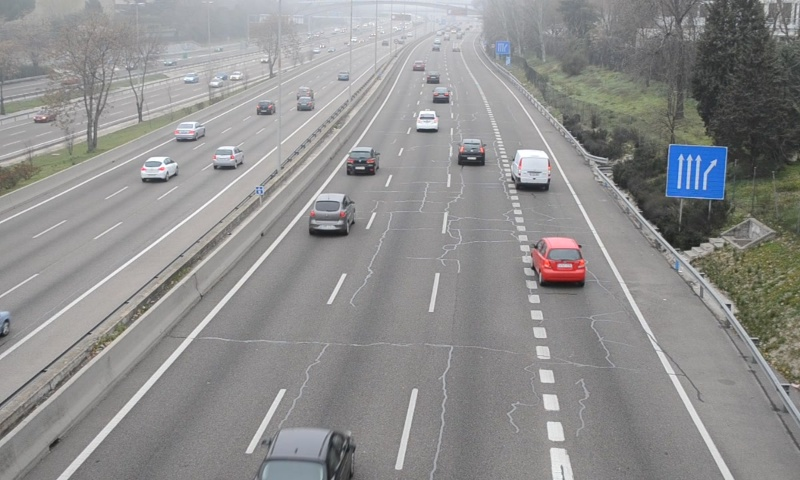car: (534, 236, 586, 284), (310, 194, 353, 234), (346, 147, 380, 174), (458, 138, 486, 166), (414, 108, 440, 132), (433, 84, 450, 103)
van: (510, 149, 552, 189)
